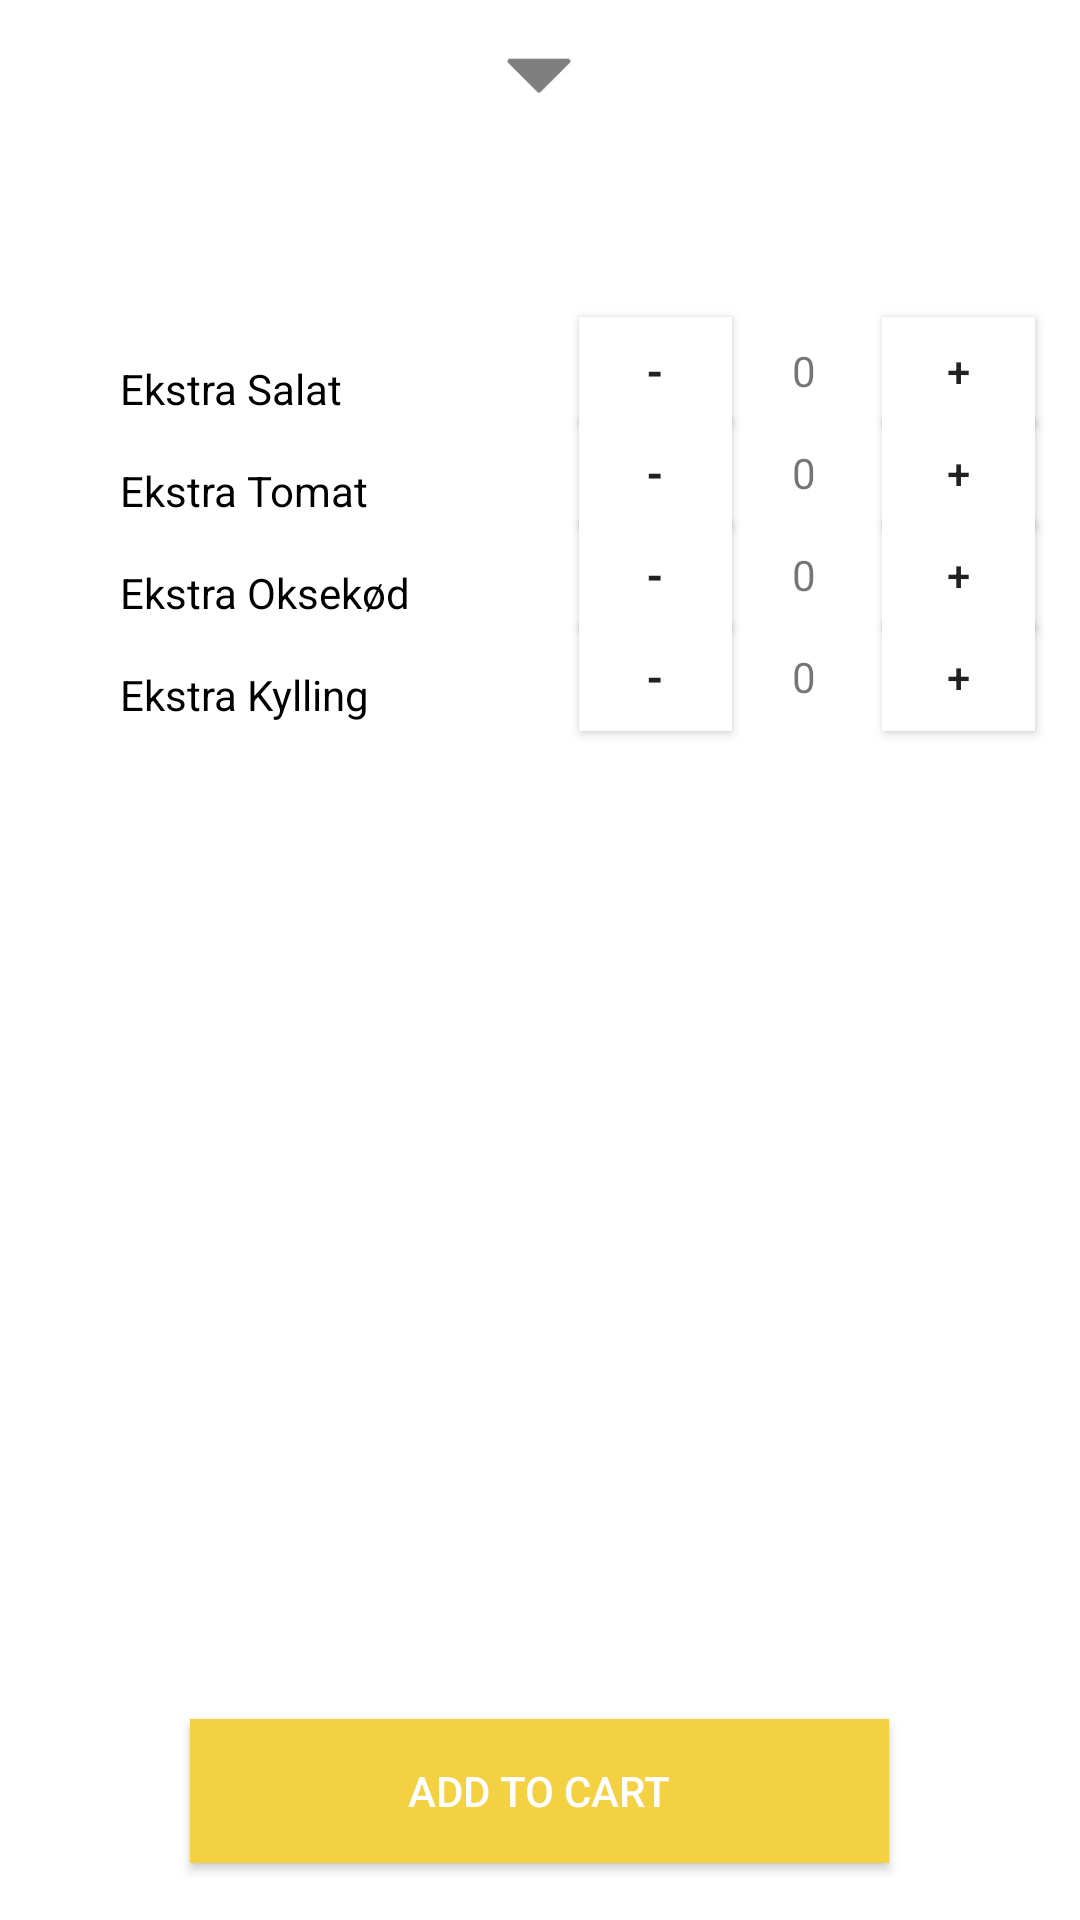

Point at icon controls on the screen. Image size 1080 × 1920, points as (x,y).
down arrow: (539,75)
